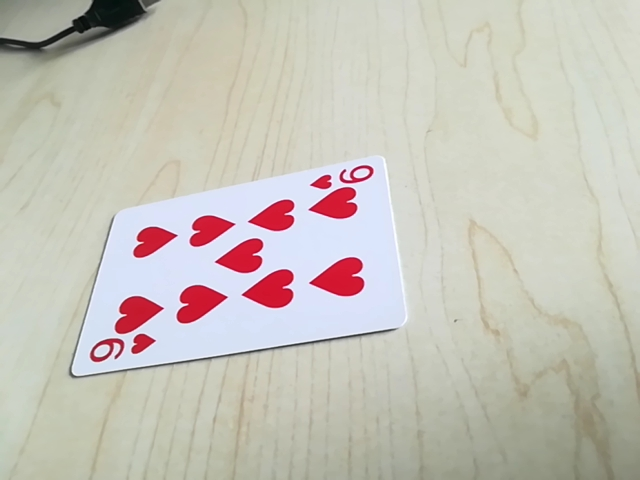hx 9: (85, 333, 156, 370), (309, 161, 380, 190)
